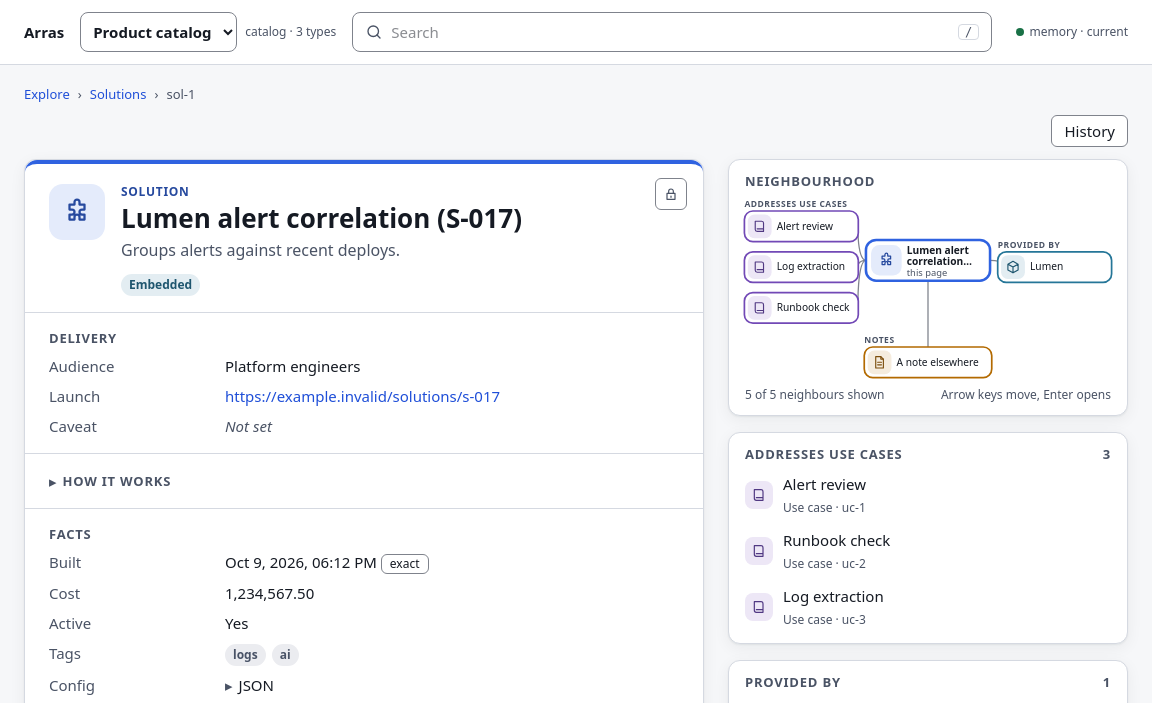
editing a property in place › offers an edit beside a property that a declared action updates, and not beside others
The image size is (1152, 703).
Step 1. Click the button named "Edit mode" → point(671, 194), box top-left (655, 178), bottom-right (687, 210)
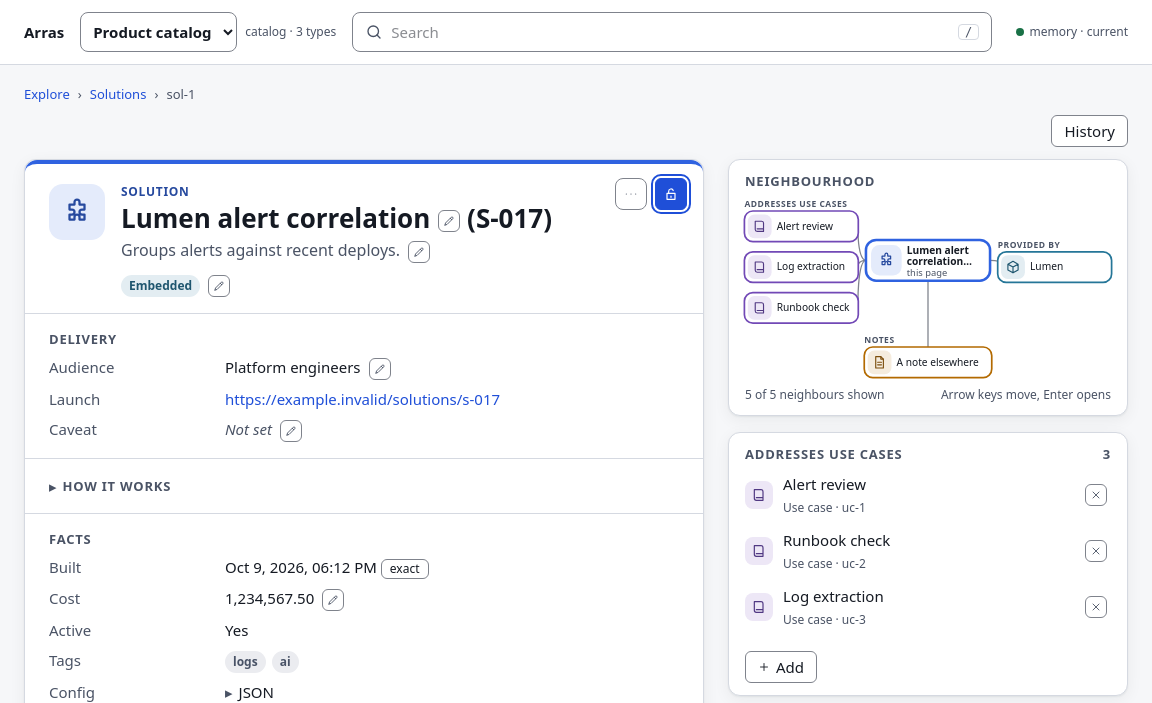
Now the button named "Edit Audience" is shown, box top-left (368, 358), bottom-right (390, 380)
